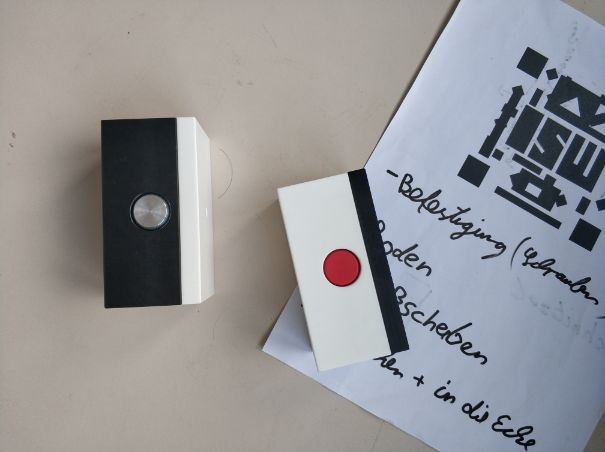black+white+red: (275, 165, 412, 373)
white+black+silver: (98, 117, 216, 309)
